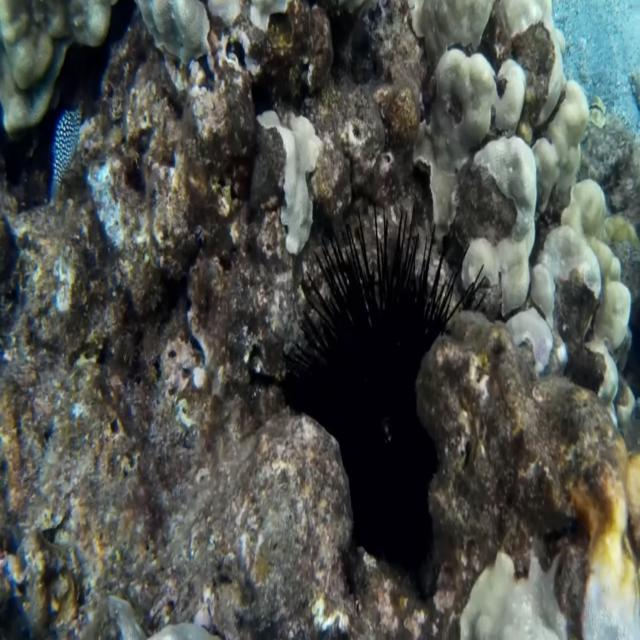Urchin: (273, 209, 488, 547)
